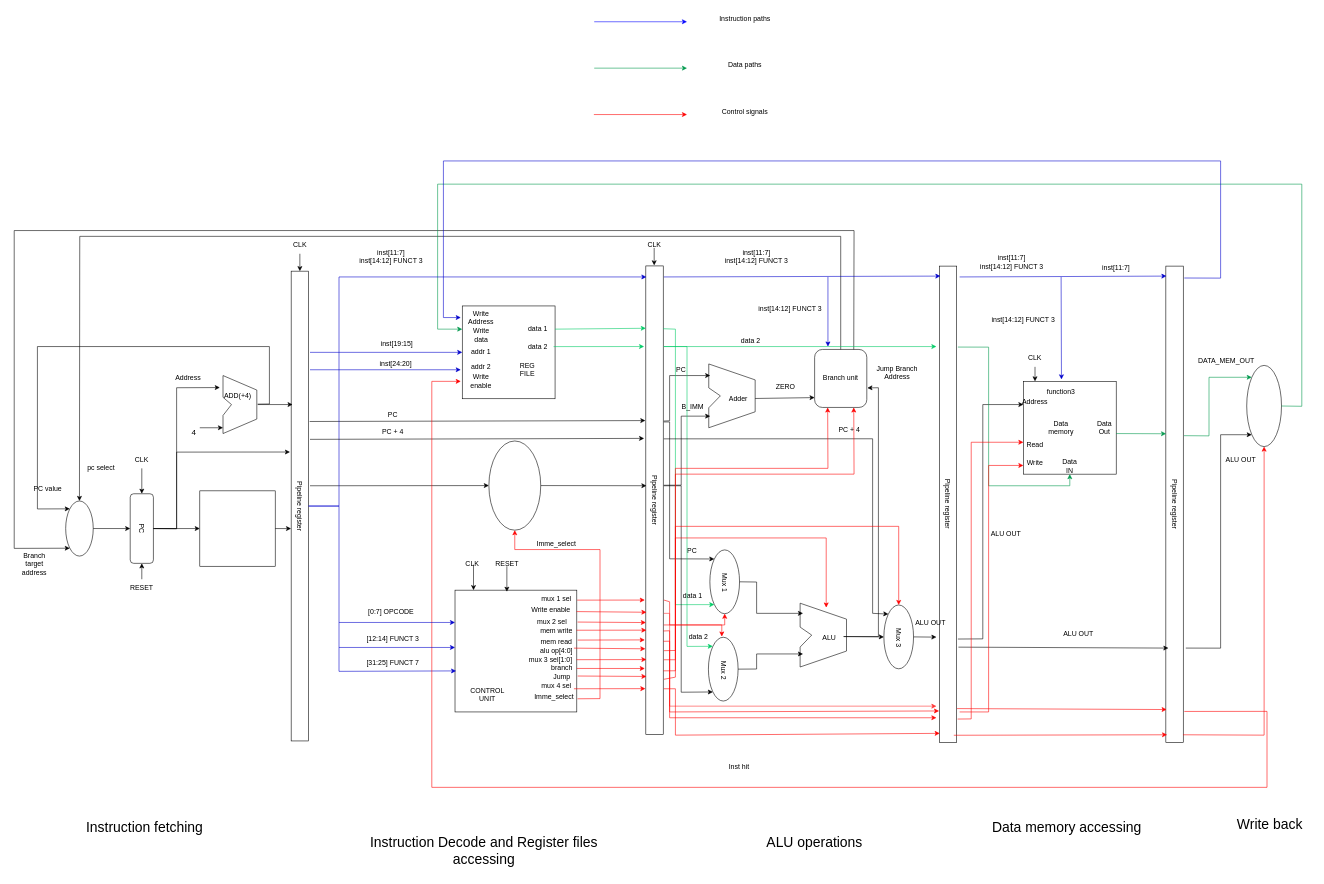
Image size: 1324x884. Some labels were removed from this diagram. Each missing label, with the box of its shape:
imm gen: (488, 440, 541, 530)
Instruction memory: (199, 490, 275, 566)
Mux: (65, 500, 93, 556)
mux 4: (1246, 365, 1282, 447)
